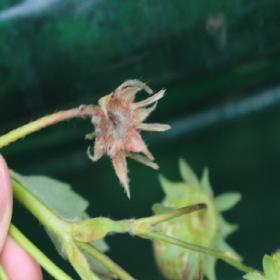Gray Mold: (78, 79, 171, 201)
